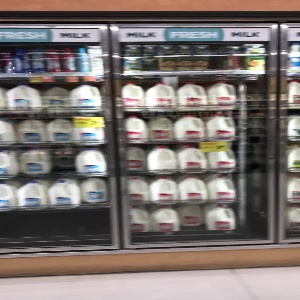void: (1, 209, 113, 242)
